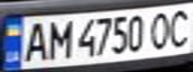0: (127, 11, 148, 53)
4: (75, 15, 96, 57)
5: (109, 13, 133, 55)
7: (93, 14, 115, 56)
A: (18, 19, 51, 62)
C: (163, 6, 193, 48)
M: (42, 17, 72, 61)
O: (148, 8, 175, 51)
